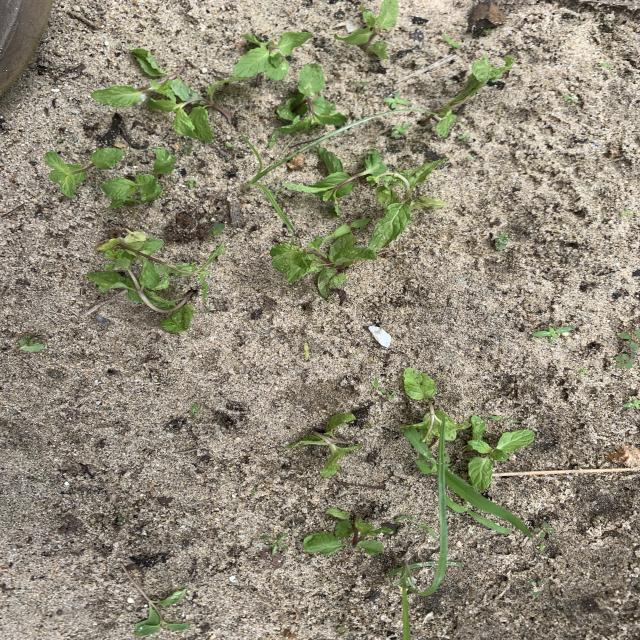crop: (86, 228, 225, 333), (270, 225, 378, 299), (91, 48, 205, 112), (368, 161, 444, 252), (269, 63, 348, 148), (435, 56, 514, 138), (286, 150, 386, 211), (403, 368, 471, 452), (466, 415, 534, 491), (121, 563, 189, 637), (284, 413, 361, 477), (100, 148, 177, 208), (225, 31, 311, 82), (303, 509, 396, 555), (44, 147, 124, 198), (335, 0, 399, 59), (172, 80, 232, 142), (88, 274, 130, 290), (173, 80, 182, 100)
weed: (391, 426, 510, 640), (245, 138, 295, 237), (614, 329, 640, 370), (388, 122, 420, 152), (382, 93, 424, 111), (531, 325, 567, 344), (299, 340, 327, 362), (442, 35, 461, 49)
